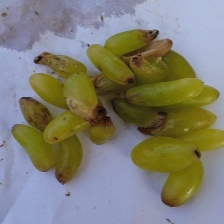grapes: (41, 31, 191, 182)
